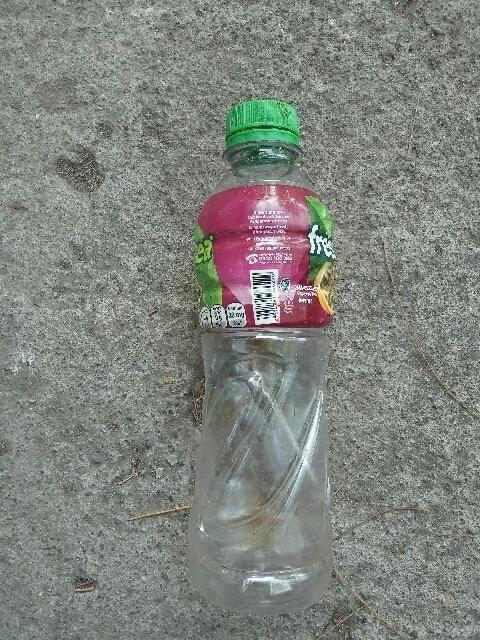bottle-plastic: (180, 95, 343, 616)
